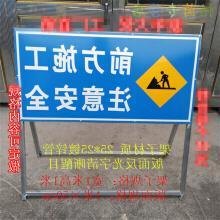sign: (15, 31, 198, 122)
